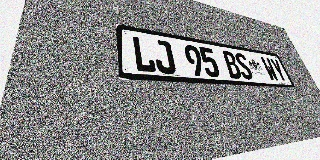5: (198, 47, 221, 78)
9: (183, 44, 207, 77)
B: (221, 50, 243, 79)
J: (152, 39, 177, 74)
L: (131, 36, 157, 73)
S: (233, 52, 255, 80)
W: (260, 57, 280, 82)
Y: (269, 58, 289, 82)
